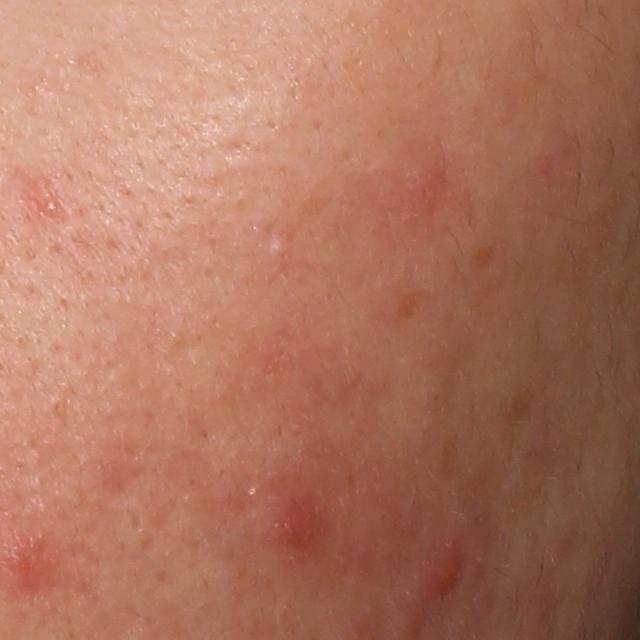comedo: (266, 236, 291, 259)
papule: (266, 483, 329, 553), (5, 531, 48, 588), (418, 544, 463, 596)
